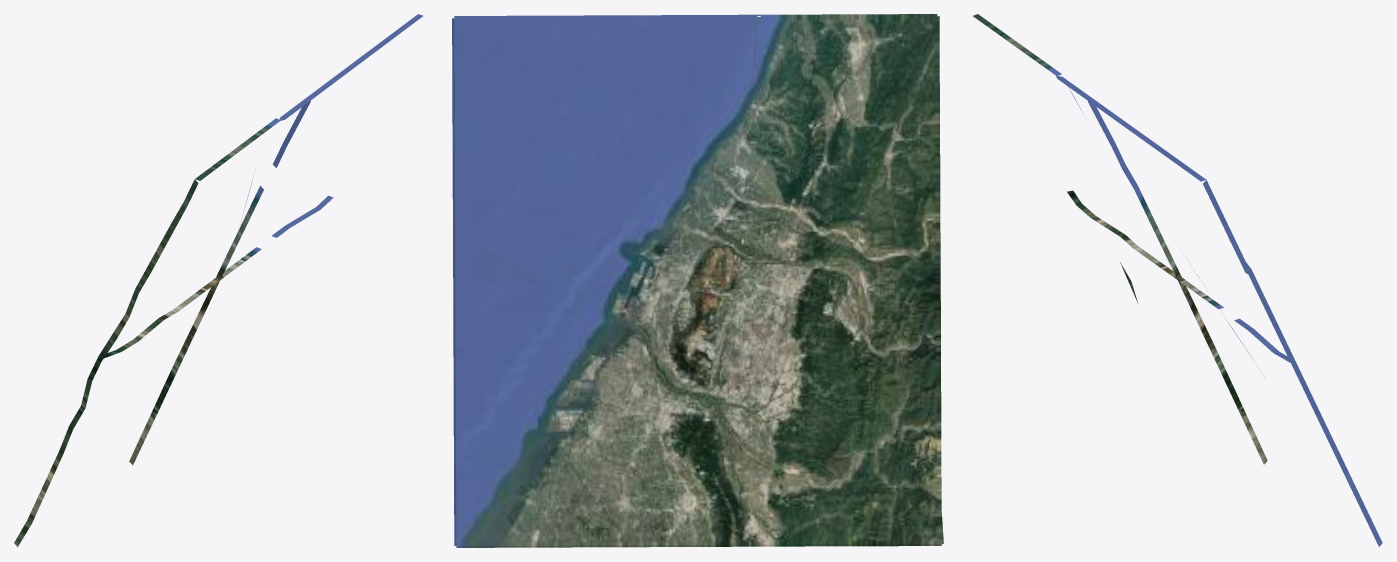
The picture shows the model from 3 angles, left to right: view 1: azimuth 30°, elevation 25°; view 2: azimuth 150°, elevation 25°; view 3: azimuth 270°, elevation 25°; orthographic projection. The views are drawn at different scales.
Bounding box in the file's own units: 79446 × 71992 × 65016.
1 material, 1 textured.
